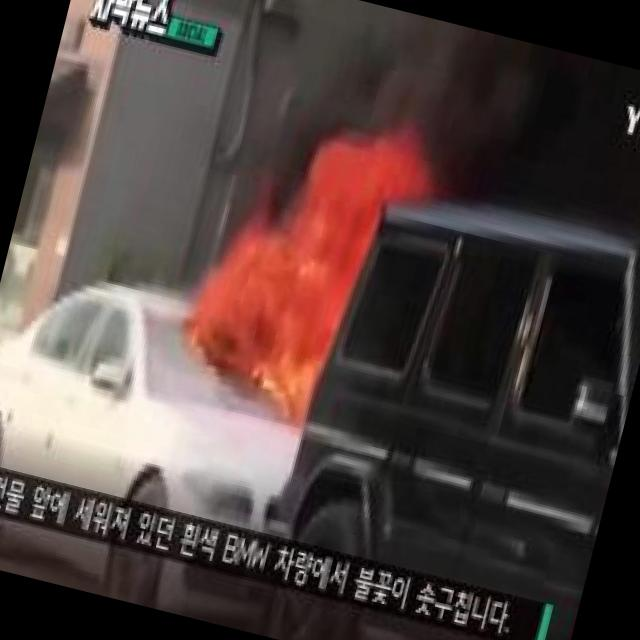Fire: (164, 81, 457, 436)
Smoke: (336, 1, 590, 164)
